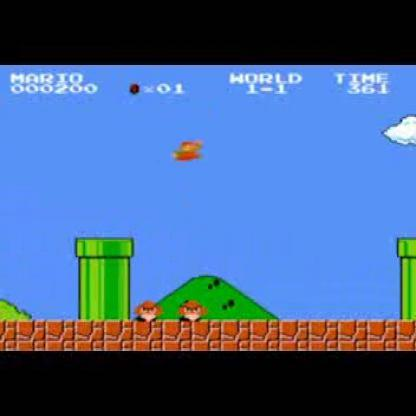Goomba: (179, 297, 206, 322), (136, 298, 160, 320)
